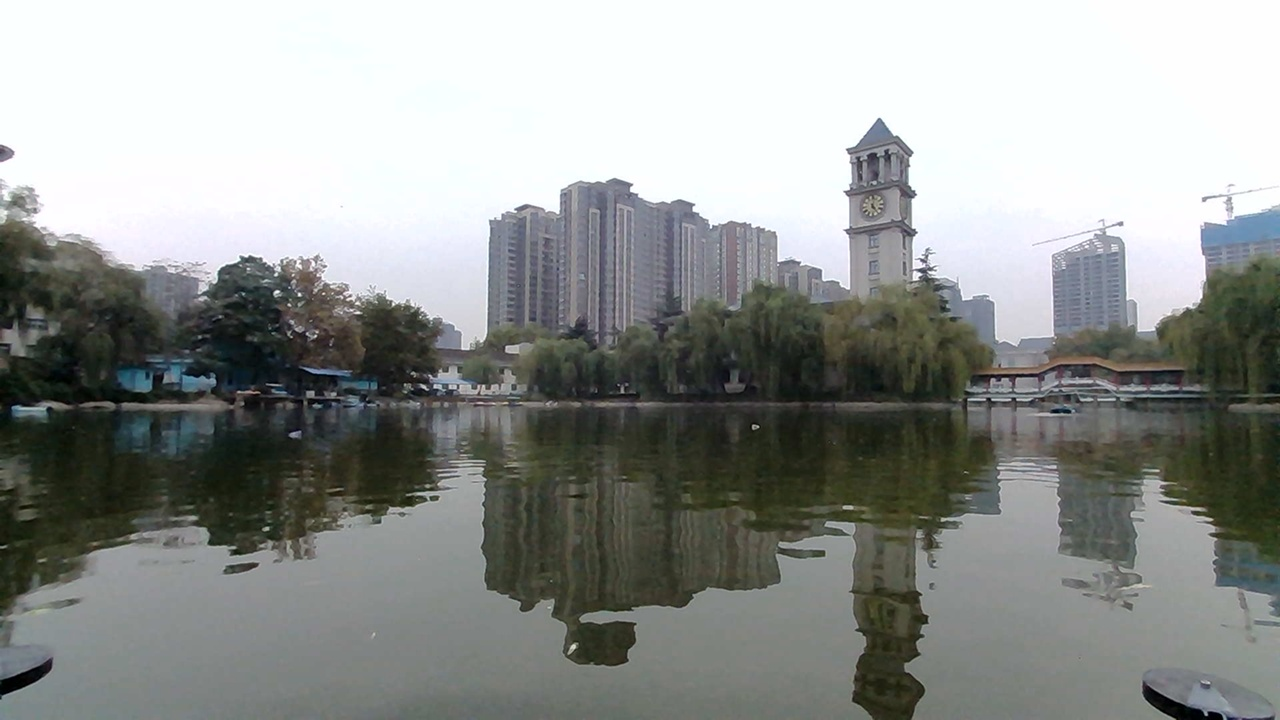bottle: (281, 417, 323, 447), (740, 419, 777, 442)
